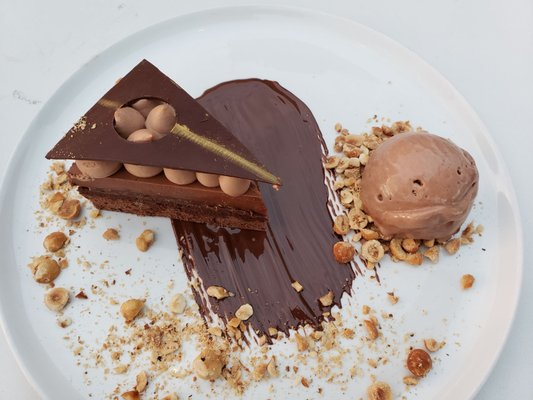salad: (360, 132, 480, 242)
